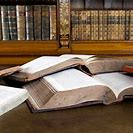book: (20, 66, 133, 115), (5, 53, 133, 82)
